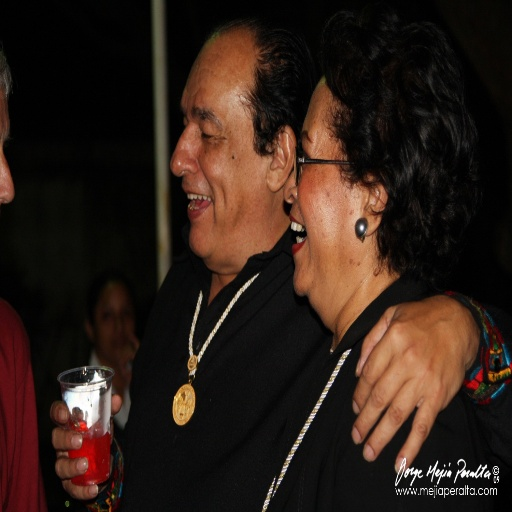hand: (336, 281, 504, 474), (47, 393, 122, 504), (116, 331, 140, 389)
